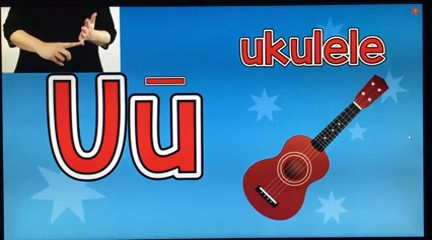U: (36, 9, 104, 71)
